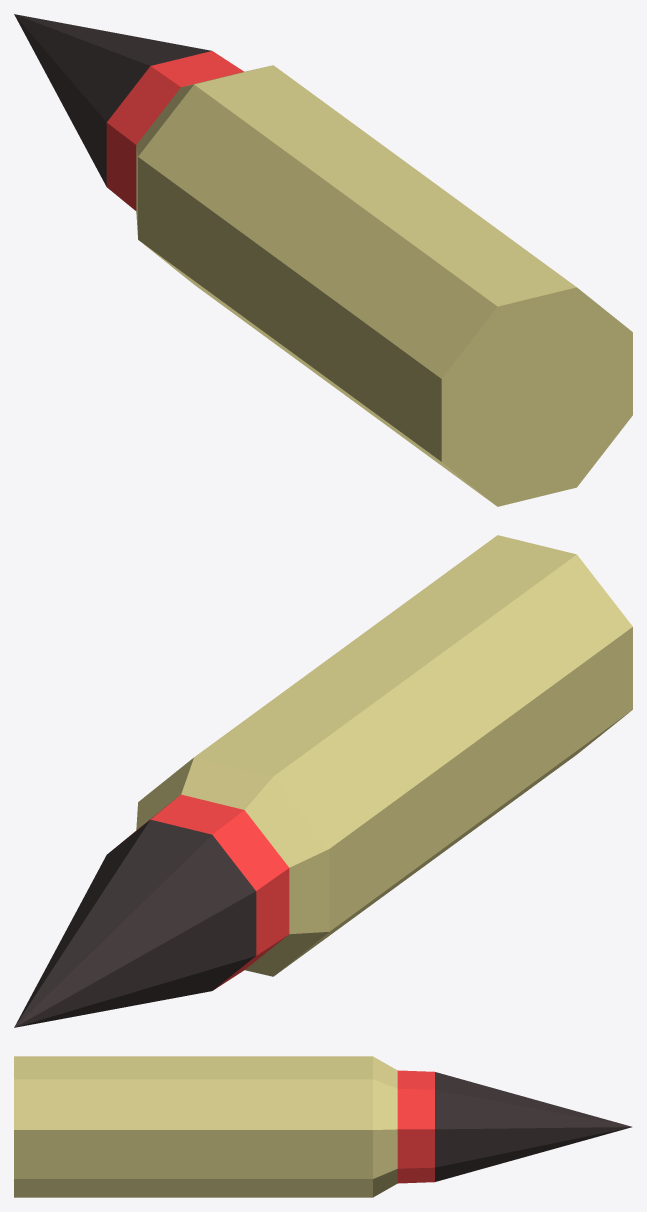
Rendered from ce_ammo_highcal_he_a.obj.
3 views of the same model, one above another, from view 1: azimuth 30°, elevation 25°; view 2: azimuth 150°, elevation 25°; view 3: azimuth 270°, elevation 25° (orthographic). The views are drawn at different scales.
Parts seen in each view (by area): view 1: ce_ammo_highcal_he_a_0, ce_ammo_highcal_he_a_3, ce_ammo_highcal_he_a_2, ce_ammo_highcal_he_a_1; view 2: ce_ammo_highcal_he_a_0, ce_ammo_highcal_he_a_3, ce_ammo_highcal_he_a_1, ce_ammo_highcal_he_a_2; view 3: ce_ammo_highcal_he_a_0, ce_ammo_highcal_he_a_3, ce_ammo_highcal_he_a_2, ce_ammo_highcal_he_a_1.
Part boxes in pixels (<box>): ce_ammo_highcal_he_a_0: <box>138,65,632,506</box>; ce_ammo_highcal_he_a_3: <box>14,14,211,186</box>; ce_ammo_highcal_he_a_2: <box>106,51,243,210</box>; ce_ammo_highcal_he_a_1: <box>136,68,260,234</box>; ce_ammo_highcal_he_a_0: <box>194,535,632,974</box>; ce_ammo_highcal_he_a_3: <box>14,819,256,1027</box>; ce_ammo_highcal_he_a_1: <box>136,757,329,976</box>; ce_ammo_highcal_he_a_2: <box>114,794,289,990</box>; ce_ammo_highcal_he_a_0: <box>14,1056,372,1197</box>; ce_ammo_highcal_he_a_3: <box>435,1072,631,1181</box>; ce_ammo_highcal_he_a_2: <box>397,1070,434,1183</box>; ce_ammo_highcal_he_a_1: <box>373,1056,397,1197</box>.
Bounding box in the file's own units: 0.1478 × 0.1478 × 0.7.
